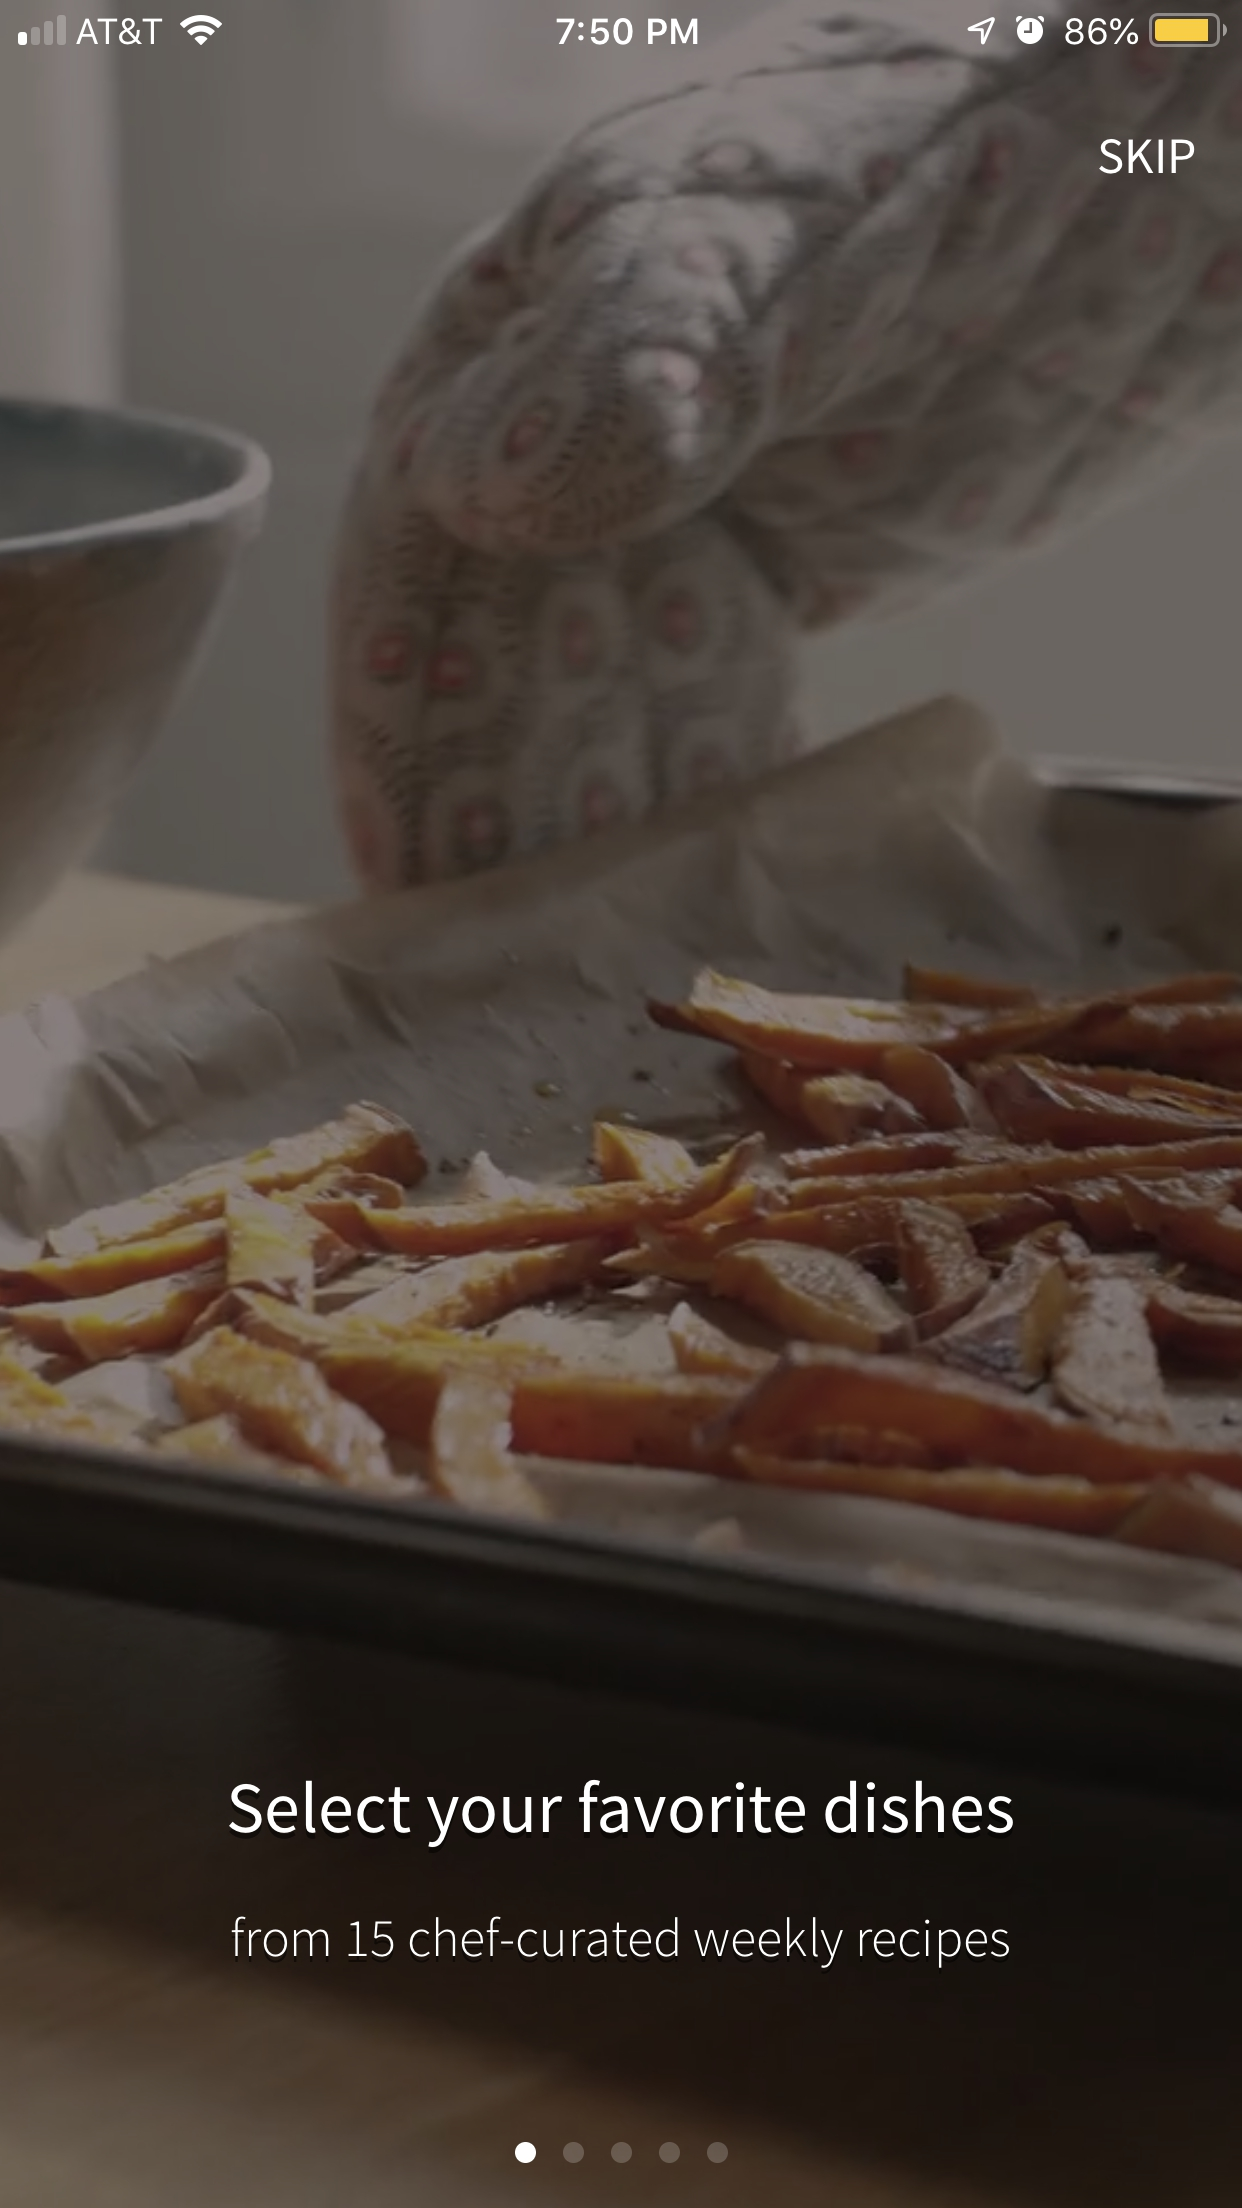BackgroundImage: (2, 49, 1242, 2208)
PageIndicator: (516, 2141, 729, 2164)
Text: (227, 1779, 1015, 1849), (231, 1915, 1010, 1968), (1098, 138, 1197, 176)
UpperTaskBar: (2, 2, 1242, 49)
